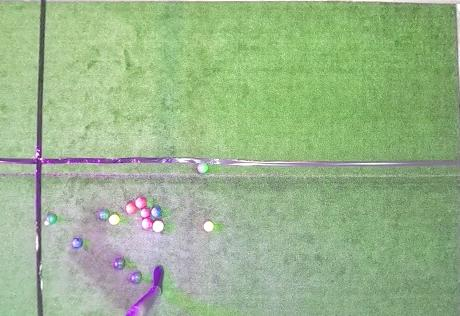blue: (72, 238, 83, 249), (151, 207, 162, 217)
green: (131, 272, 142, 283), (114, 258, 125, 269), (197, 163, 208, 173), (99, 210, 109, 220), (48, 214, 56, 223)
red: (135, 197, 147, 209), (153, 221, 164, 232), (126, 203, 137, 214), (142, 218, 152, 229), (141, 208, 150, 218)
vline: (1, 0, 47, 315), (454, 0, 459, 316)
white: (44, 221, 49, 225)
yellow: (109, 214, 120, 225), (204, 221, 214, 232)
